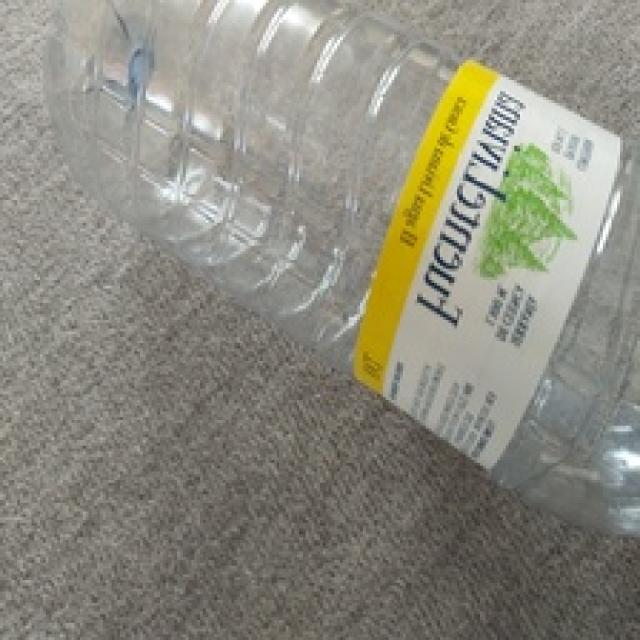plastic: (30, 3, 640, 546)
